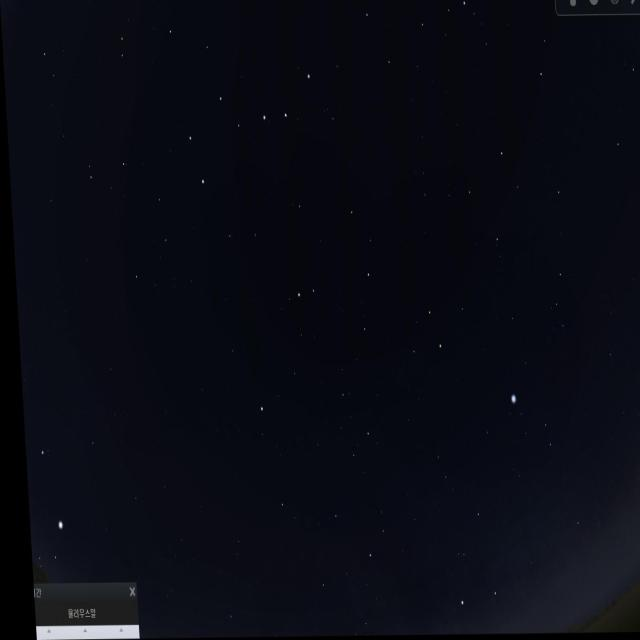lyra: (495, 377, 555, 467)
ursa_major: (172, 60, 322, 196)
